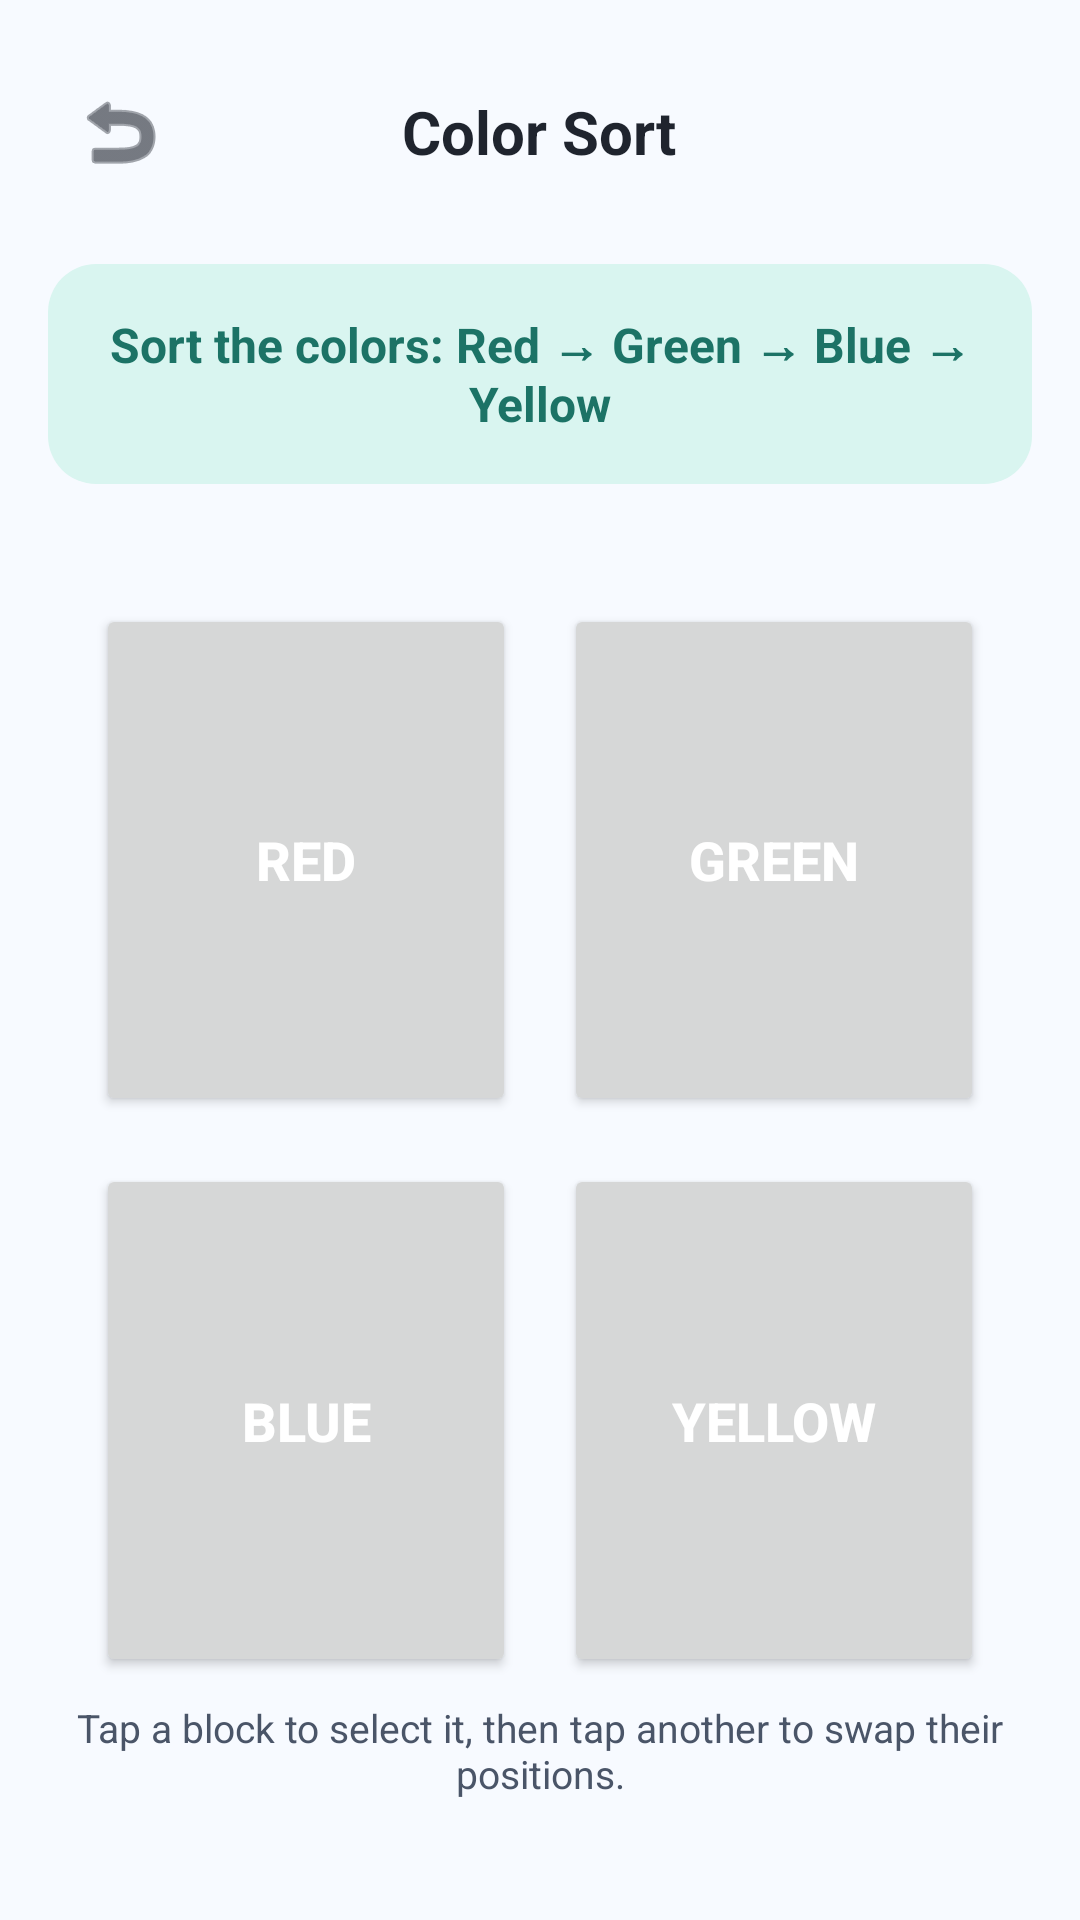

Named icons in this screenshot (1080*1920) and their bounding boxes, {"x1": x1, "y1": y1, "x2": x2, "y2": y2}:
Back: {"x1": 87, "y1": 101, "x2": 156, "y2": 164}
